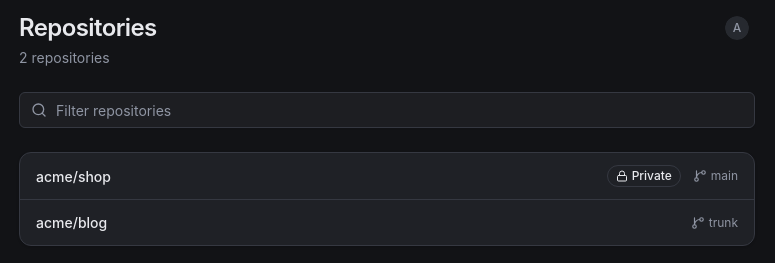
Test case: RepoListPage › filters the list and says when nothing matches
Expected: the link "acme/shop Private main" is shown, [36,165,738,187]
Type "zzz" into the search field labelled "Filter repositories".
click(387, 110); type("zzz")  # box [19,92,755,128]
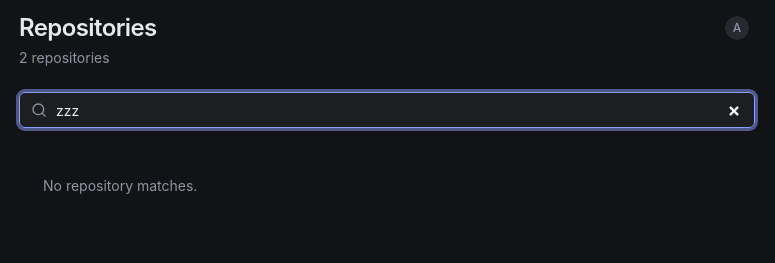
Expected: the text "No repository matches." is shown, [43,177,197,194]
